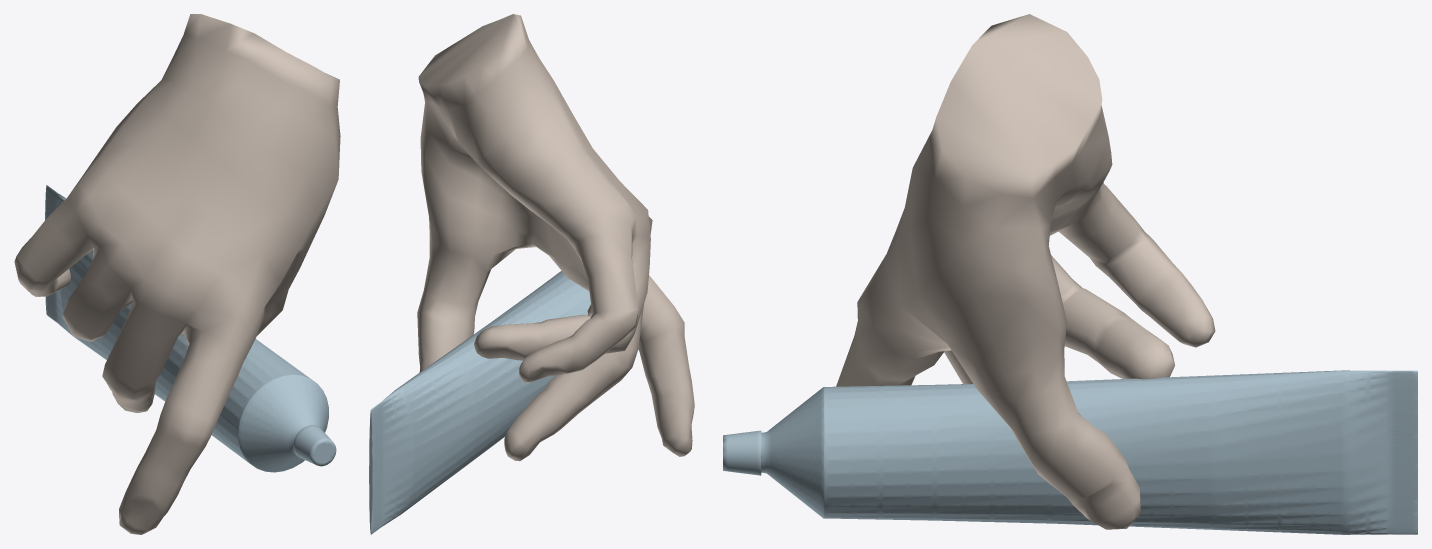
The model's file is ours_0.glb.
3 views of the same model, side by side, from view 1: azimuth 30°, elevation 25°; view 2: azimuth 150°, elevation 25°; view 3: azimuth 270°, elevation 25° (orthographic). The views are drawn at different scales.
Size of the model in its own units: 0.1122 by 0.1824 by 0.202.
